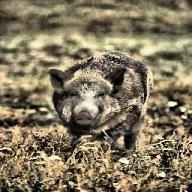boar: (48, 50, 153, 154)
